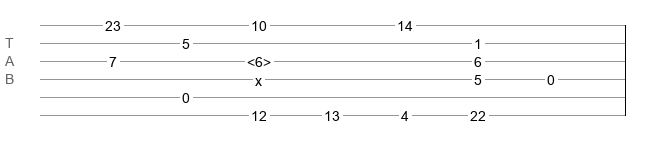0: (182, 90, 190, 100), (547, 72, 555, 82)
1: (474, 36, 482, 46)
10: (251, 18, 267, 28)
12: (251, 108, 267, 118)
13: (324, 108, 340, 118)
14: (397, 18, 413, 28)
22: (470, 108, 486, 118)
23: (105, 18, 121, 28)
4: (401, 108, 409, 118)
5: (182, 36, 190, 46), (474, 72, 482, 82)
6: (474, 54, 482, 64)
7: (109, 54, 117, 64)
harmonic: (247, 54, 271, 64)
x: (255, 73, 262, 81)
